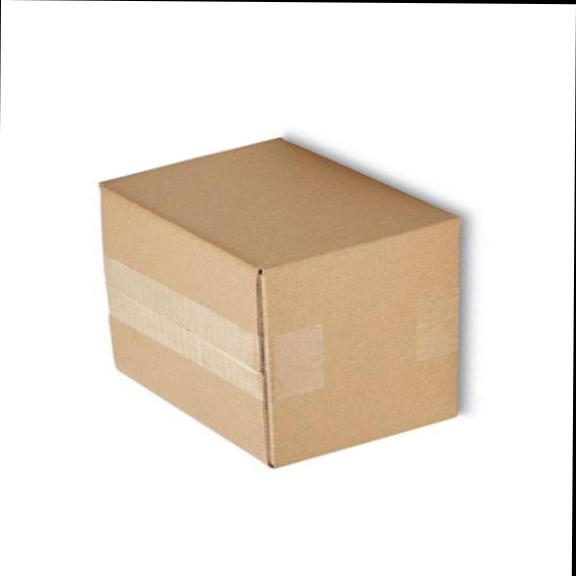Kertas: (102, 140, 458, 466)
